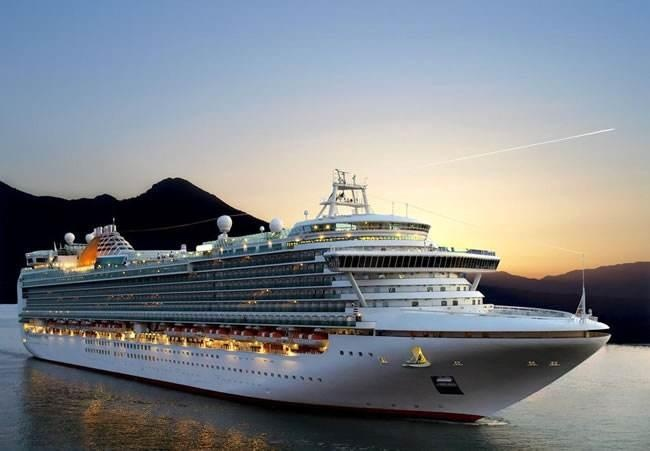youlun: (13, 171, 617, 420)
